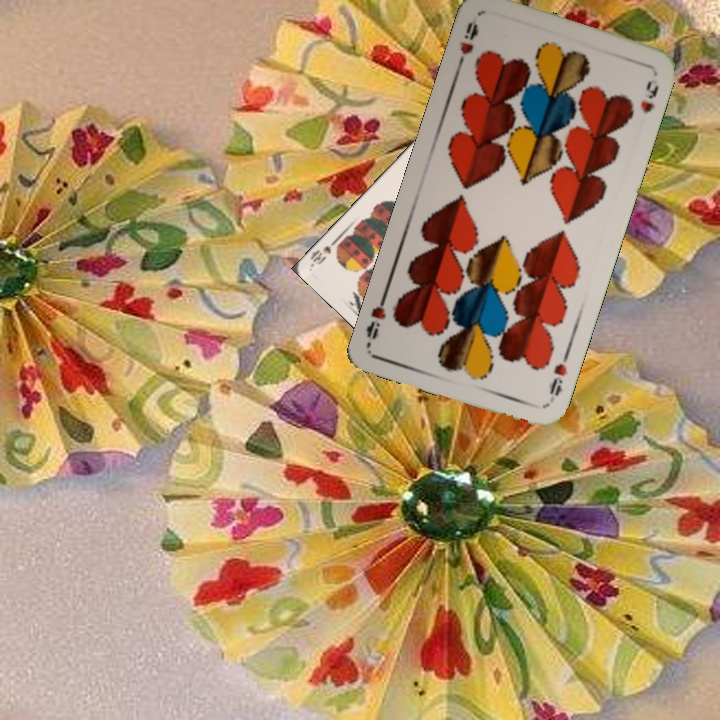H9: (453, 14, 481, 71), (545, 348, 572, 406)
